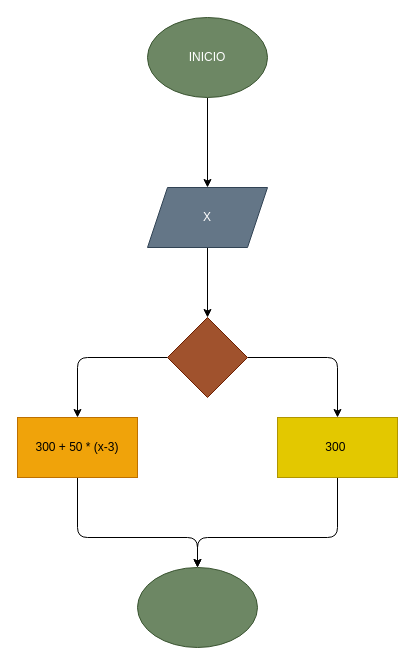
Some shapes in this 415 by 665 pixel diagram are drawn without their labels. Each missing label, with the box of its shape:
FIN: (136, 566, 258, 648)
X <= 3: (166, 316, 248, 398)
